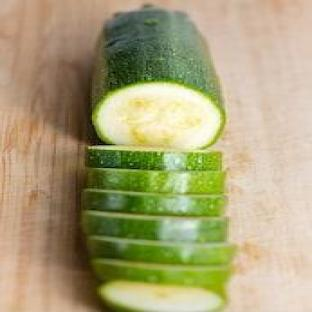Zucchini: (92, 8, 225, 148), (92, 258, 230, 292), (83, 212, 227, 242), (87, 237, 234, 265), (100, 281, 225, 311), (83, 189, 227, 215), (87, 168, 225, 194), (87, 146, 221, 170)
